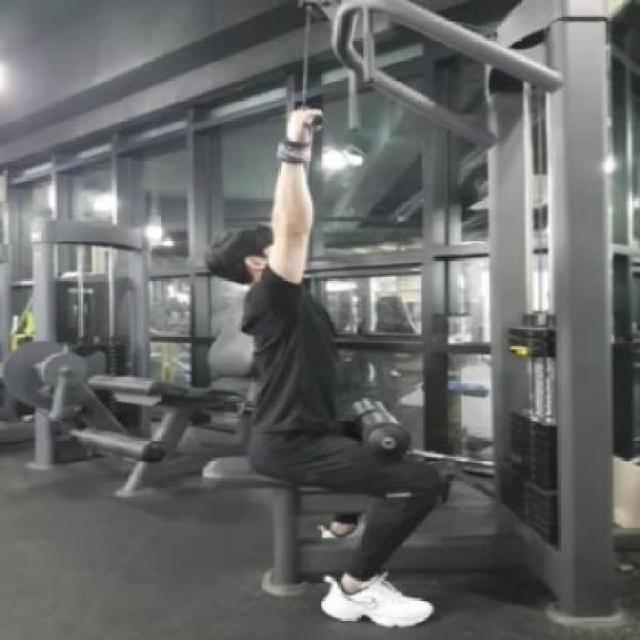Lat Pull Down: (158, 0, 640, 640)
